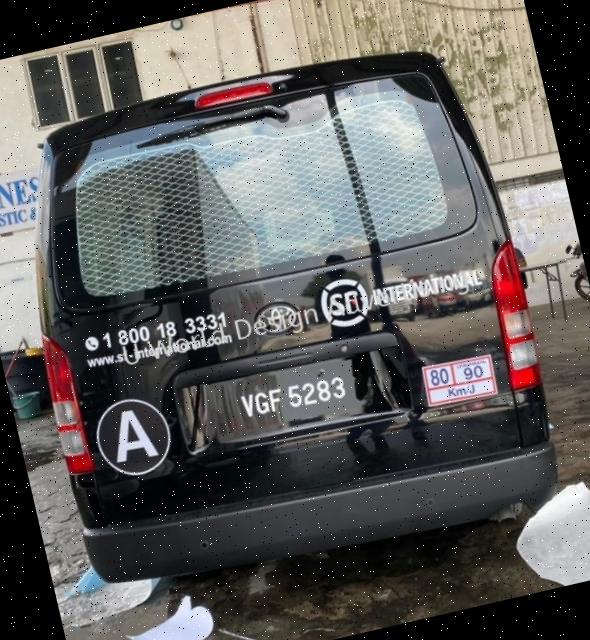License_Plate: (188, 333, 419, 481)
van: (1, 21, 586, 619)
